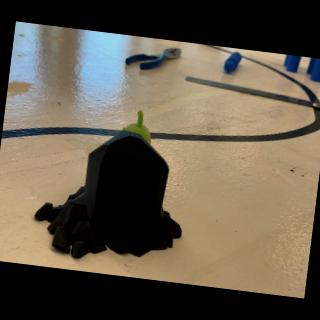teletubby: (122, 111, 151, 144)
